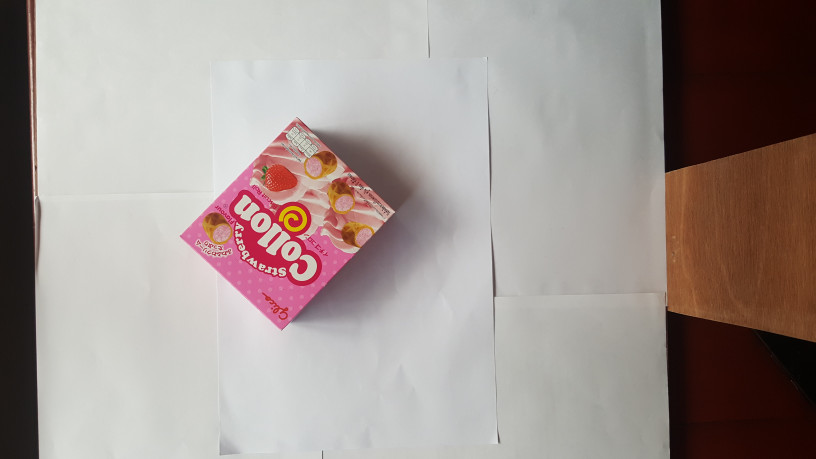collon-strawberry: (178, 114, 398, 332)
